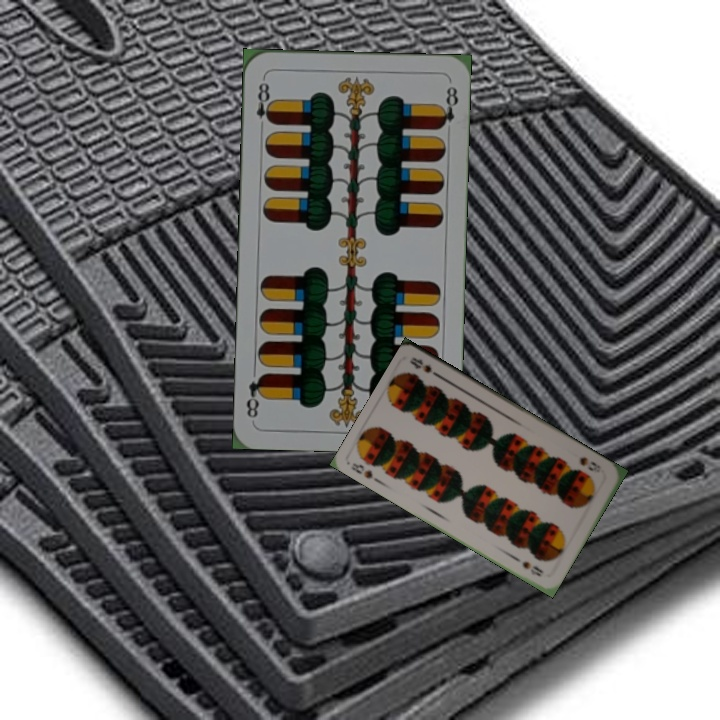E8: (252, 74, 276, 133)
S8: (347, 459, 376, 481), (575, 453, 604, 474)
